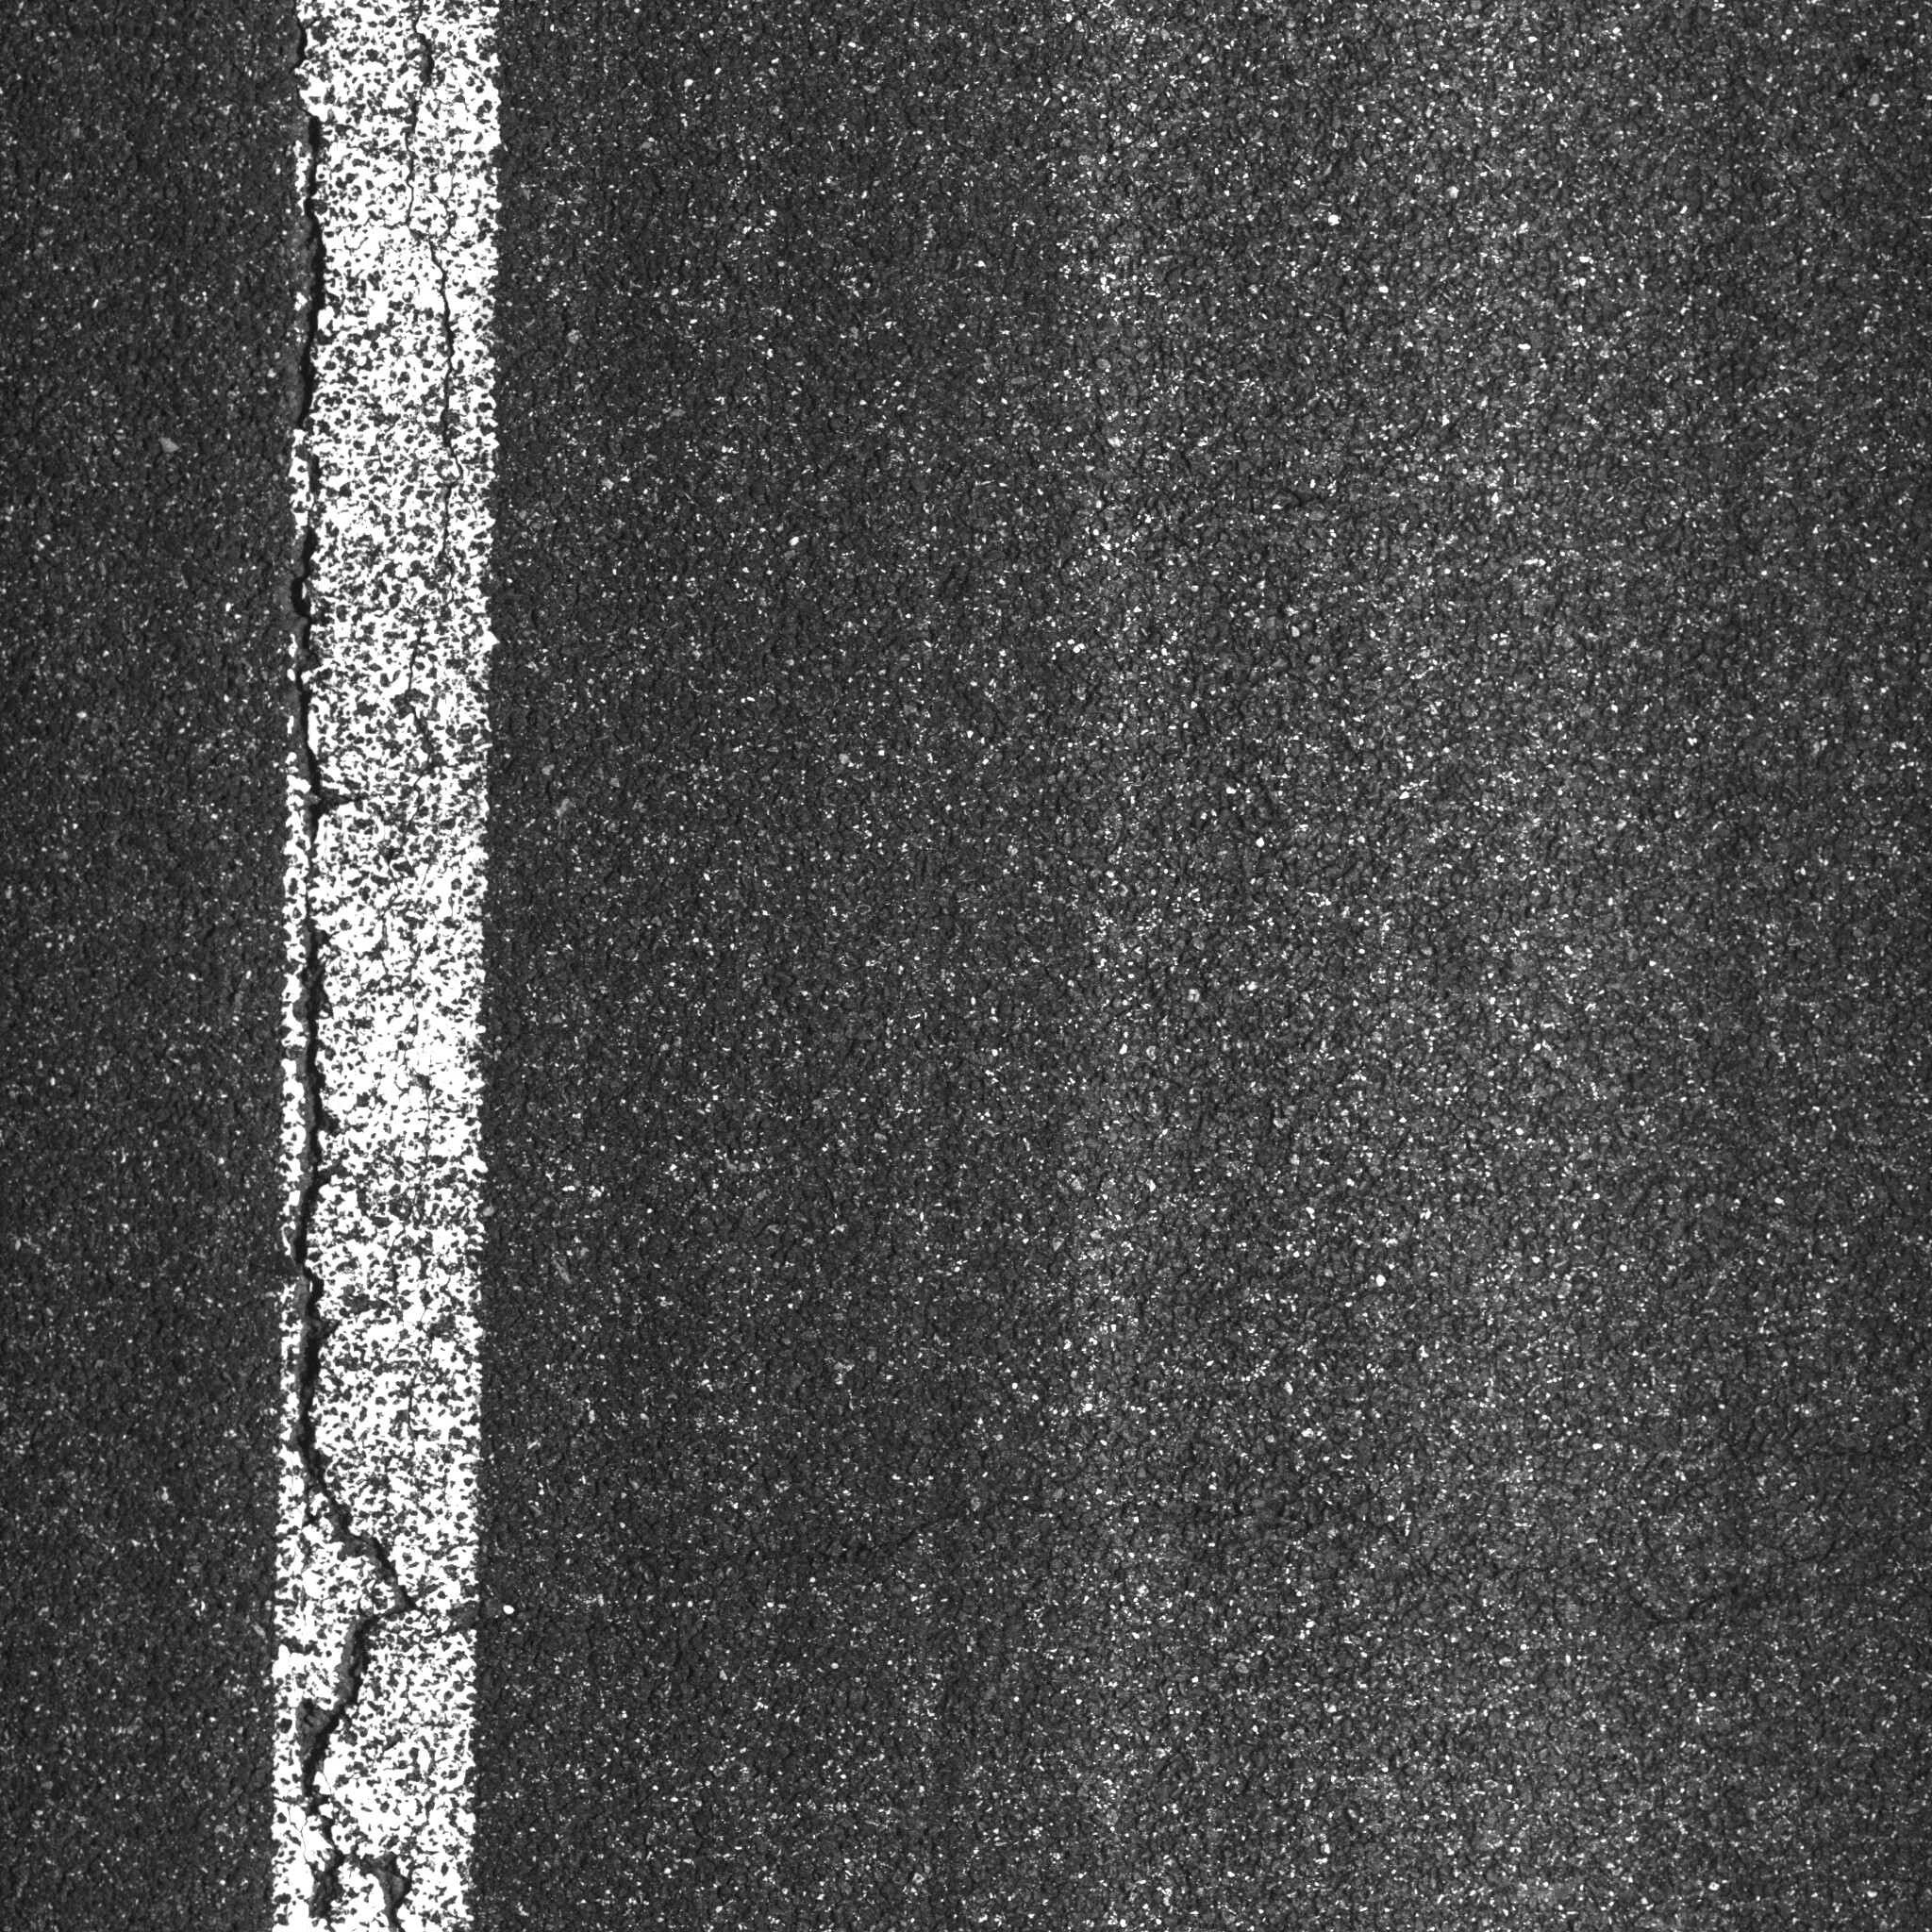longitudinal: (216, 5, 586, 1932)
